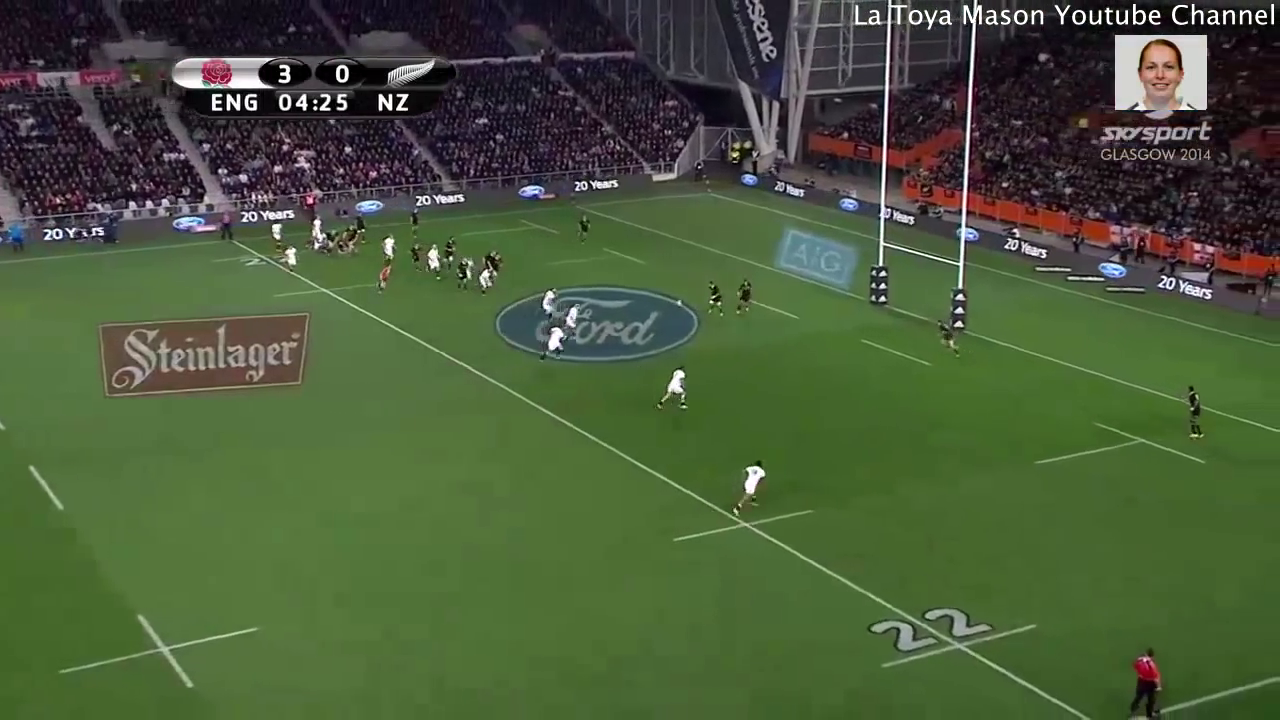10_metre: (53, 607, 262, 692)
ball: (673, 297, 686, 309)
player: (733, 457, 767, 519), (655, 362, 689, 415), (1182, 384, 1210, 441), (932, 315, 965, 362), (536, 320, 567, 364), (700, 279, 728, 321), (537, 283, 562, 324), (732, 277, 755, 317), (561, 300, 583, 339), (574, 211, 594, 247), (374, 263, 395, 295), (427, 244, 443, 284), (439, 234, 456, 271), (409, 241, 426, 273), (355, 210, 370, 245), (379, 233, 396, 263), (271, 217, 285, 252), (407, 207, 422, 238), (307, 214, 324, 241), (477, 267, 492, 295), (455, 256, 467, 291), (284, 244, 297, 275), (482, 246, 496, 269), (347, 223, 359, 248), (493, 254, 505, 278), (465, 256, 476, 280)
post: (865, 65, 980, 337)
ruck: (309, 224, 366, 256)
